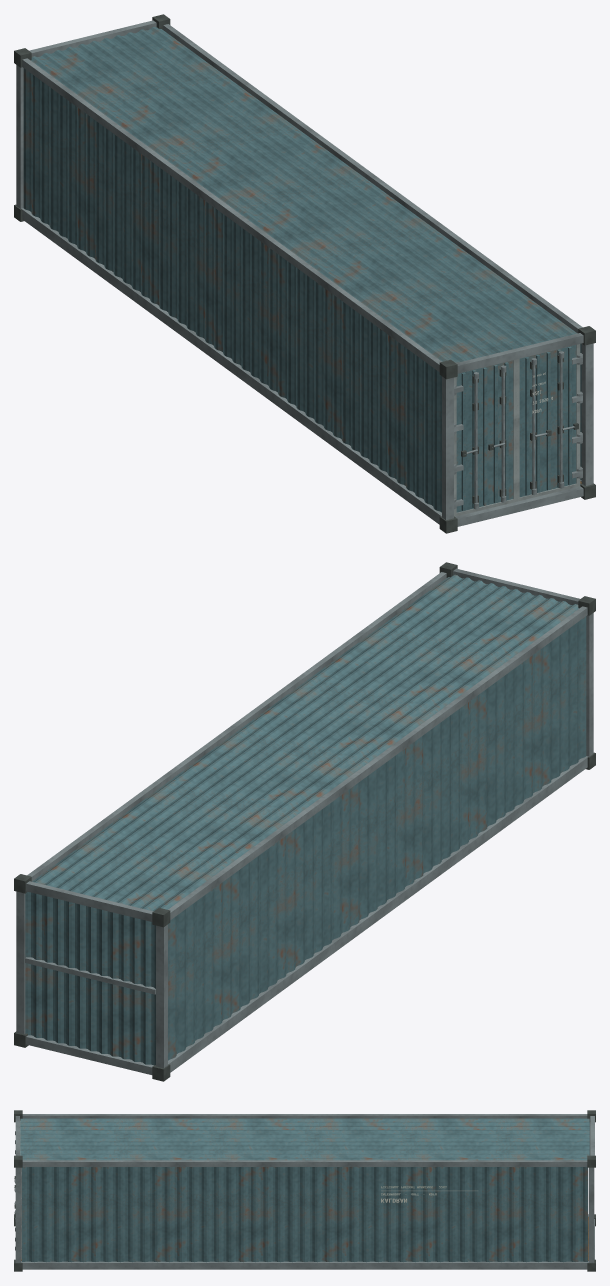
The picture shows the model from 3 angles, top to bottom: view 1: azimuth 30°, elevation 25°; view 2: azimuth 150°, elevation 25°; view 3: azimuth 270°, elevation 25°; orthographic projection. The views are drawn at different scales.
Parts seen in each view (by area): view 1: VIS_Freight_Faded_Batch, VIS_Galvanized_Hardware_Batch, HINGE_RIGHT_VIS_Freight_Faded_Batch, HINGE_LEFT_VIS_Freight_Faded_Batch, VIS_Corner_Cast_Batch, HINGE_RIGHT_VIS_Galvanized_Hardware_Batch, HINGE_LEFT_VIS_Galvanized_Hardware_Batch, HINGE_RIGHT_VIS_Interior_Steel_Batch, HINGE_LEFT_VIS_Interior_Steel_Batch; view 2: VIS_Freight_Faded_Batch, VIS_Galvanized_Hardware_Batch, VIS_Corner_Cast_Batch; view 3: VIS_Freight_Faded_Batch, VIS_Galvanized_Hardware_Batch, VIS_Corner_Cast_Batch, VIS_KDFU_40ft_Side_Marking_Batch.
Boxes of the visible parts, <box> form: VIS_Freight_Faded_Batch: <box>23,26,581,512</box>; VIS_Galvanized_Hardware_Batch: <box>16,20,593,526</box>; HINGE_RIGHT_VIS_Freight_Faded_Batch: <box>519,345,576,497</box>; HINGE_LEFT_VIS_Freight_Faded_Batch: <box>456,360,513,512</box>; VIS_Corner_Cast_Batch: <box>14,14,595,533</box>; HINGE_RIGHT_VIS_Galvanized_Hardware_Batch: <box>531,351,582,495</box>; HINGE_LEFT_VIS_Galvanized_Hardware_Batch: <box>454,365,506,509</box>; HINGE_RIGHT_VIS_Interior_Steel_Batch: <box>516,344,580,501</box>; HINGE_LEFT_VIS_Interior_Steel_Batch: <box>454,359,517,516</box>; VIS_Freight_Faded_Batch: <box>25,574,586,1065</box>; VIS_Galvanized_Hardware_Batch: <box>16,568,593,1074</box>; VIS_Corner_Cast_Batch: <box>14,562,595,1081</box>; VIS_Freight_Faded_Batch: <box>20,1118,589,1262</box>; VIS_Galvanized_Hardware_Batch: <box>15,1114,594,1269</box>; VIS_Corner_Cast_Batch: <box>14,1110,595,1271</box>; VIS_KDFU_40ft_Side_Marking_Batch: <box>381,1186,477,1202</box>.
Bounding box in the file's own units: 2.44 × 2.59 × 12.19.
8 materials, 8 textured.
